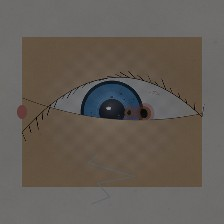foreign_body_visible: (116, 102, 142, 123)
